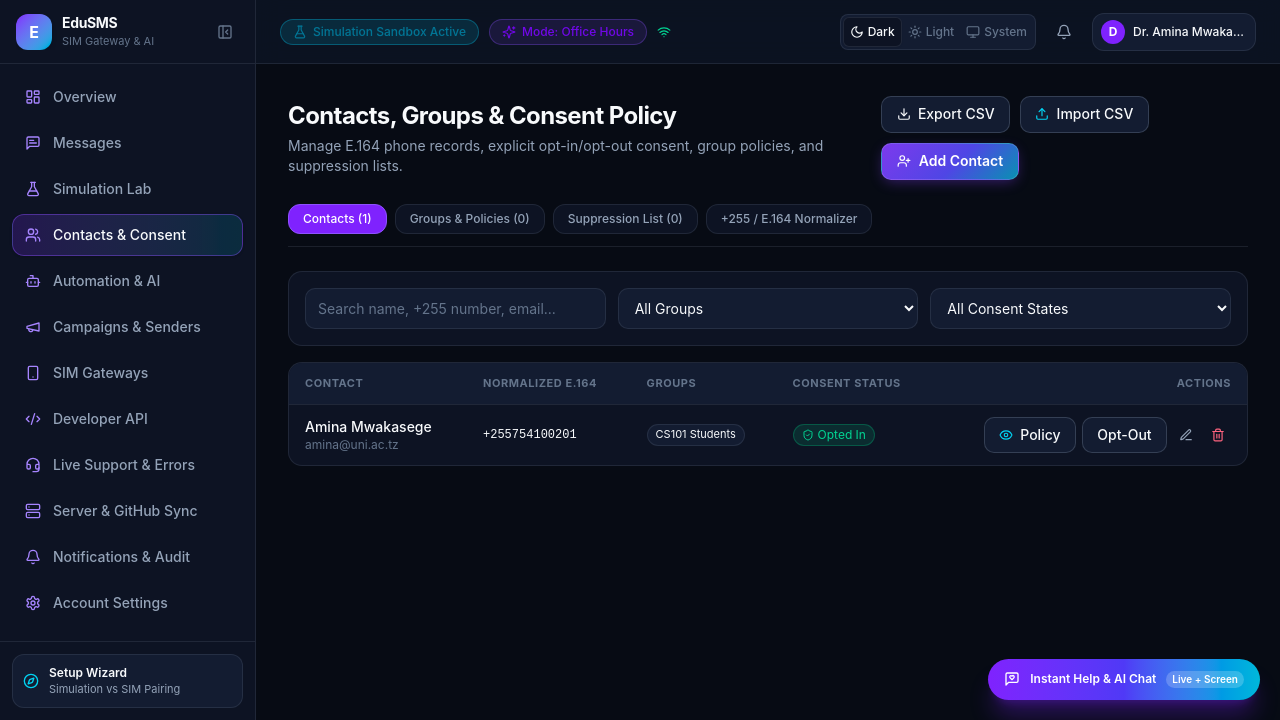
it: Contacts Management, Mandatory CSV Consent & Effective Policy Preview › fetches and displays Effective Contact Policy resolution with inheritance trace
The width and height of the screenshot is (1280, 720).
expect the text "Amina Mwakasege" is shown: met, box left=305, top=417, right=432, bottom=437
Click the button "Policy": (1030, 435) left=984, top=417, right=1076, bottom=454
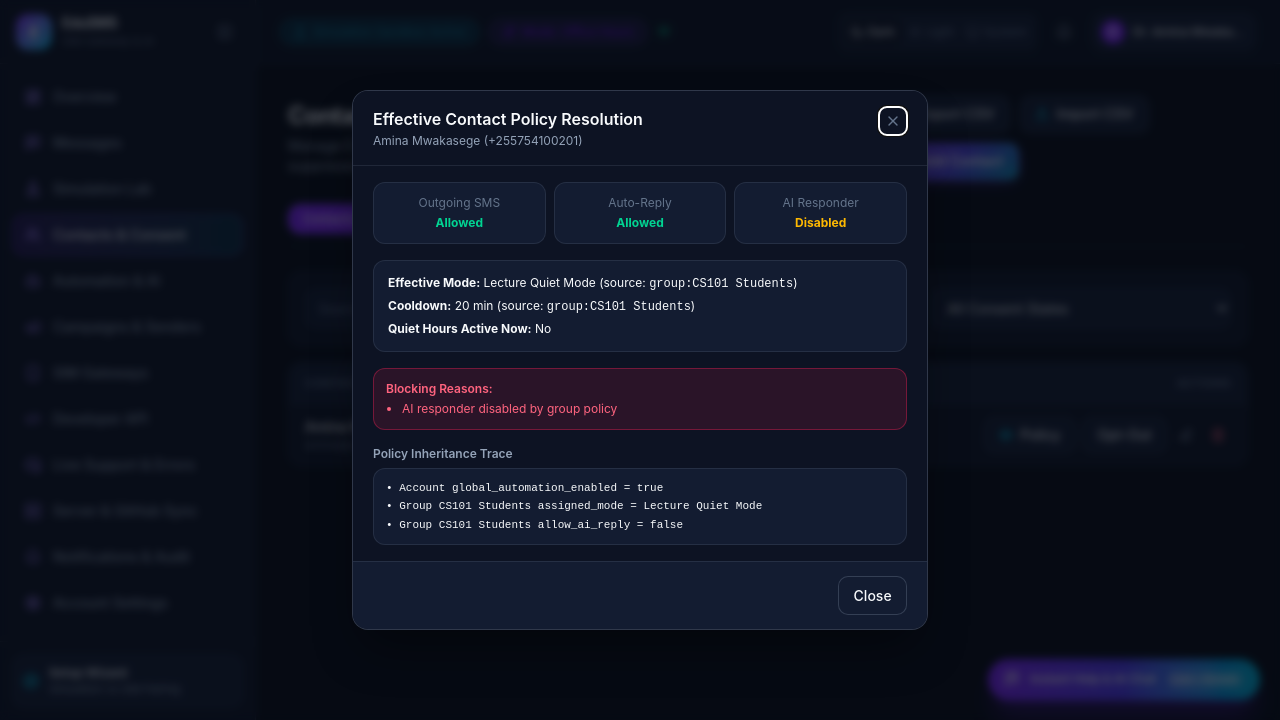
expect the heading "Effective Contact Policy Resolution" is shown: met, box left=373, top=106, right=643, bottom=130
expect the list item "AI responder disabled by group policy" is shown: met, box left=402, top=400, right=617, bottom=416
expect the list item "• Group CS101 Students assigned_mode = Lecture Quiet Mode" is shown: met, box left=386, top=500, right=762, bottom=512
